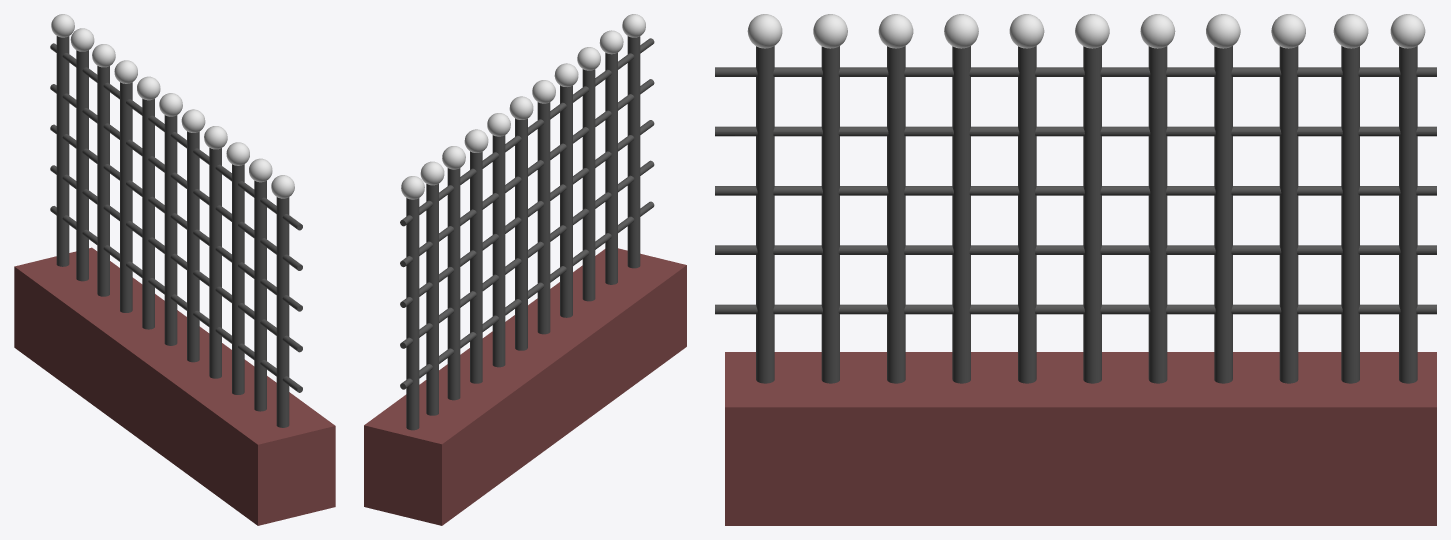
File: wall2.fbx
The picture shows the model from 3 angles, left to right: view 1: azimuth 30°, elevation 25°; view 2: azimuth 150°, elevation 25°; view 3: azimuth 270°, elevation 25°; orthographic projection. The views are drawn at different scales.
Visible parts, largest first — view 1: wall2; view 2: wall2; view 3: wall2.
Part boxes in pixels (x1,y1,x2,y2): wall2: (14,14,335,525); wall2: (364,14,686,525); wall2: (715,14,1436,525).
Bounding box in the file's own units: 1 × 4.07 × 5.51.
